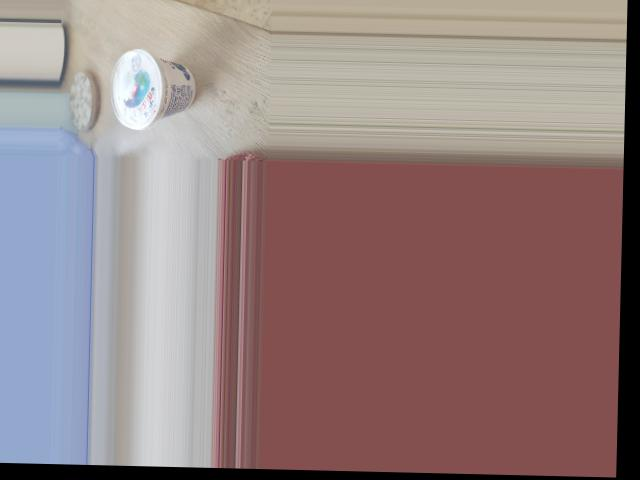cotage: (107, 45, 209, 117)
